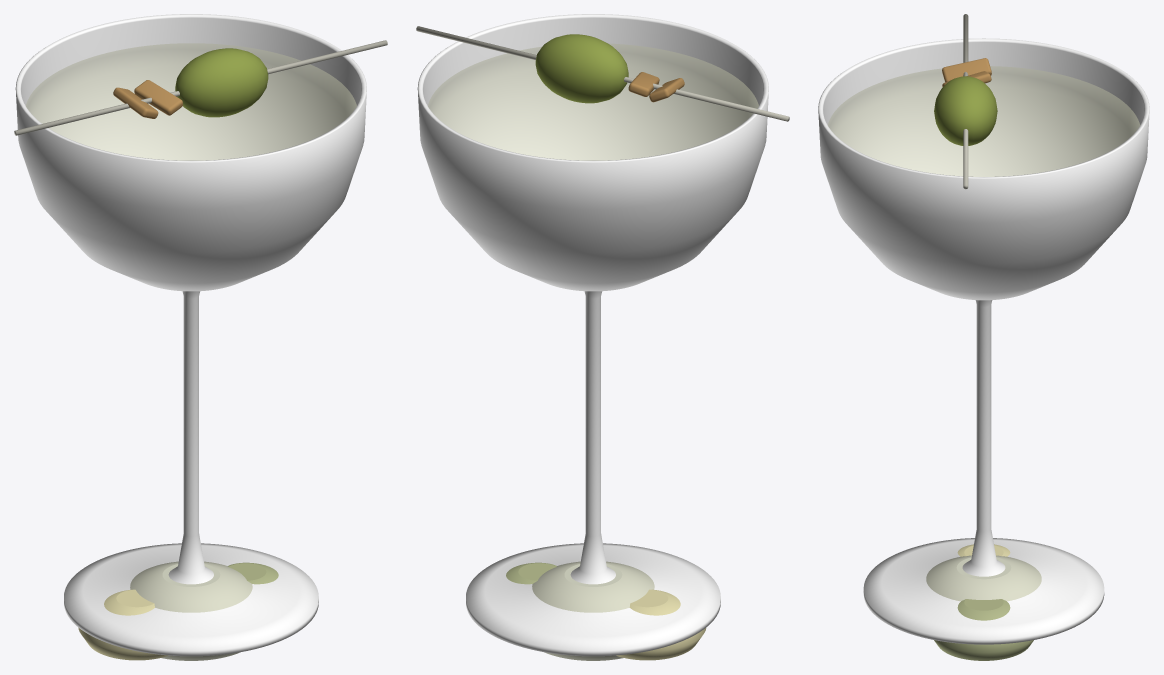
File: somma-mirkos-martini.glb
3 views of the same model, side by side, from view 1: azimuth 30°, elevation 25°; view 2: azimuth 150°, elevation 25°; view 3: azimuth 270°, elevation 25° (orthographic). The views are drawn at different scales.
Parts seen in each view (by area): view 1: glass, liquid, garnish_olive, recipe_spirit, recipe_italicus, garnish_pick, garnish_cheese_crisp_1, recipe_olive_brine, garnish_cheese_crisp_0; view 2: glass, liquid, garnish_olive, recipe_spirit, recipe_italicus, garnish_pick, recipe_olive_brine; view 3: glass, liquid, recipe_spirit, garnish_olive, recipe_olive_brine, garnish_cheese_crisp_0, garnish_pick.
Part boxes in pixels (box(x1,y1,x2,y2)): glass: box(15, 14, 366, 656); liquid: box(26, 43, 356, 160); garnish_olive: box(175, 48, 268, 117); recipe_spirit: box(130, 561, 252, 660); recipe_italicus: box(78, 589, 168, 660); garnish_pick: box(14, 40, 387, 135); garnish_cheese_crisp_1: box(134, 80, 182, 115); recipe_olive_brine: box(228, 562, 278, 584); garnish_cheese_crisp_0: box(113, 87, 158, 118); glass: box(417, 14, 768, 656); liquid: box(428, 44, 758, 160); garnish_olive: box(535, 34, 628, 103); recipe_spirit: box(532, 561, 654, 660); recipe_italicus: box(616, 589, 706, 660); garnish_pick: box(416, 26, 789, 121); recipe_olive_brine: box(506, 562, 556, 584); glass: box(818, 38, 1149, 644); liquid: box(828, 66, 1139, 176); recipe_spirit: box(926, 555, 1041, 601); garnish_olive: box(934, 76, 997, 145); recipe_olive_brine: box(934, 599, 1033, 660); garnish_cheese_crisp_0: box(942, 58, 991, 82); garnish_pick: box(963, 14, 968, 189).
Size of the model in its own units: 1.78 by 2.72 by 1.46.
